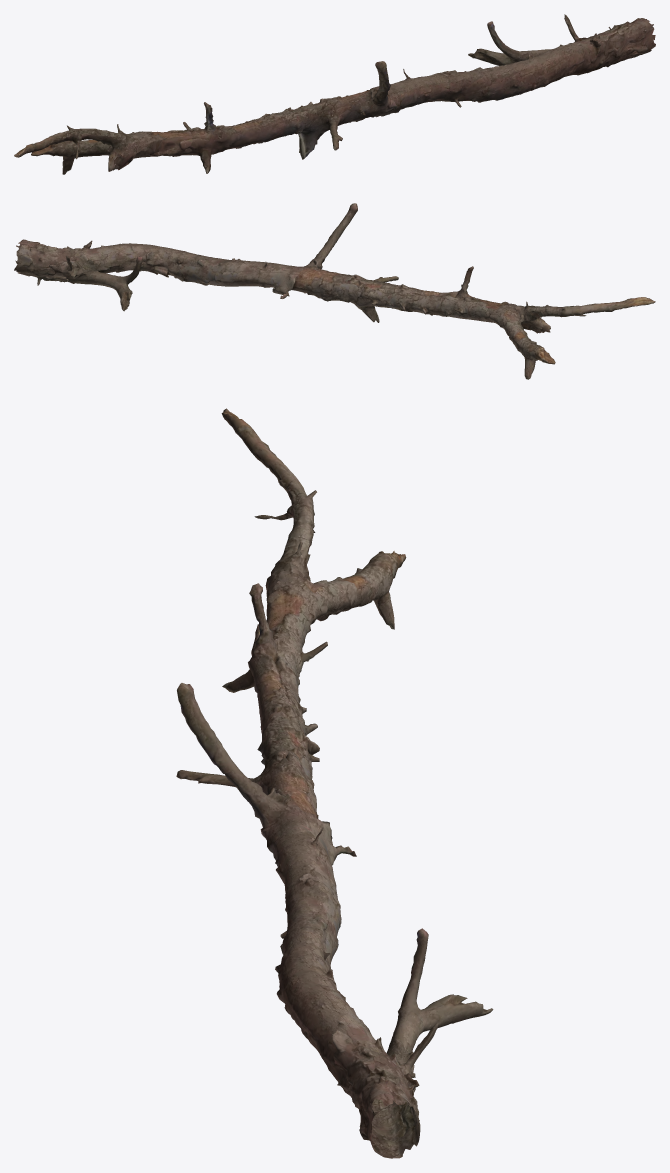
Rendered from branch-1.glb.
The picture shows the model from 3 angles, top to bottom: view 1: azimuth 30°, elevation 25°; view 2: azimuth 150°, elevation 25°; view 3: azimuth 270°, elevation 25°; orthographic projection. The views are drawn at different scales.
Parts seen in each view (by area): view 1: Pine Tree Fallen Trunk PBR Scan 01_fallen_pine_02_0; view 2: Pine Tree Fallen Trunk PBR Scan 01_fallen_pine_02_0; view 3: Pine Tree Fallen Trunk PBR Scan 01_fallen_pine_02_0.
Part boxes in pixels (x1,y1,x2,y2): Pine Tree Fallen Trunk PBR Scan 01_fallen_pine_02_0: (14,14,655,174); Pine Tree Fallen Trunk PBR Scan 01_fallen_pine_02_0: (14,203,655,379); Pine Tree Fallen Trunk PBR Scan 01_fallen_pine_02_0: (176,408,493,1158).
Bounding box in the file's own units: 3.8 × 0.6341 × 0.8726.
Materials: 1 (1 with a texture image).
